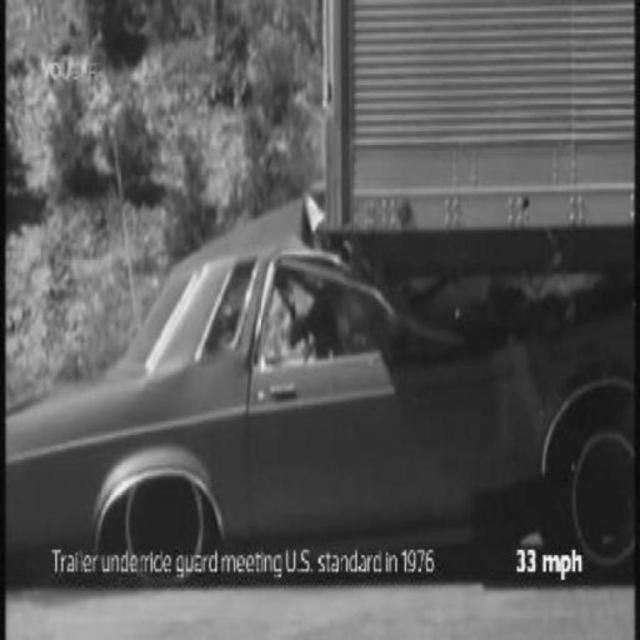accident: (19, 76, 639, 572)
